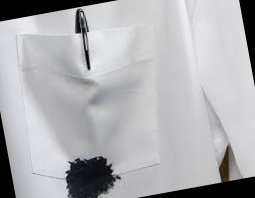ink: (63, 155, 117, 198)
